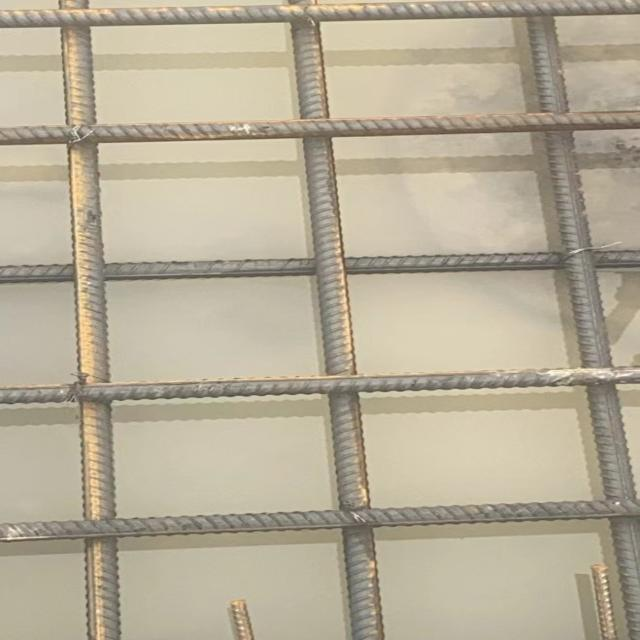ribbed bar: (528, 17, 638, 639), (286, 0, 386, 639), (58, 0, 120, 639), (0, 498, 638, 541), (0, 366, 638, 405), (0, 109, 638, 145), (0, 249, 638, 283), (0, 0, 638, 28)
